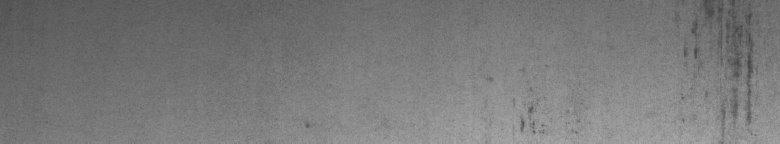ka: (678, 4, 758, 136)
